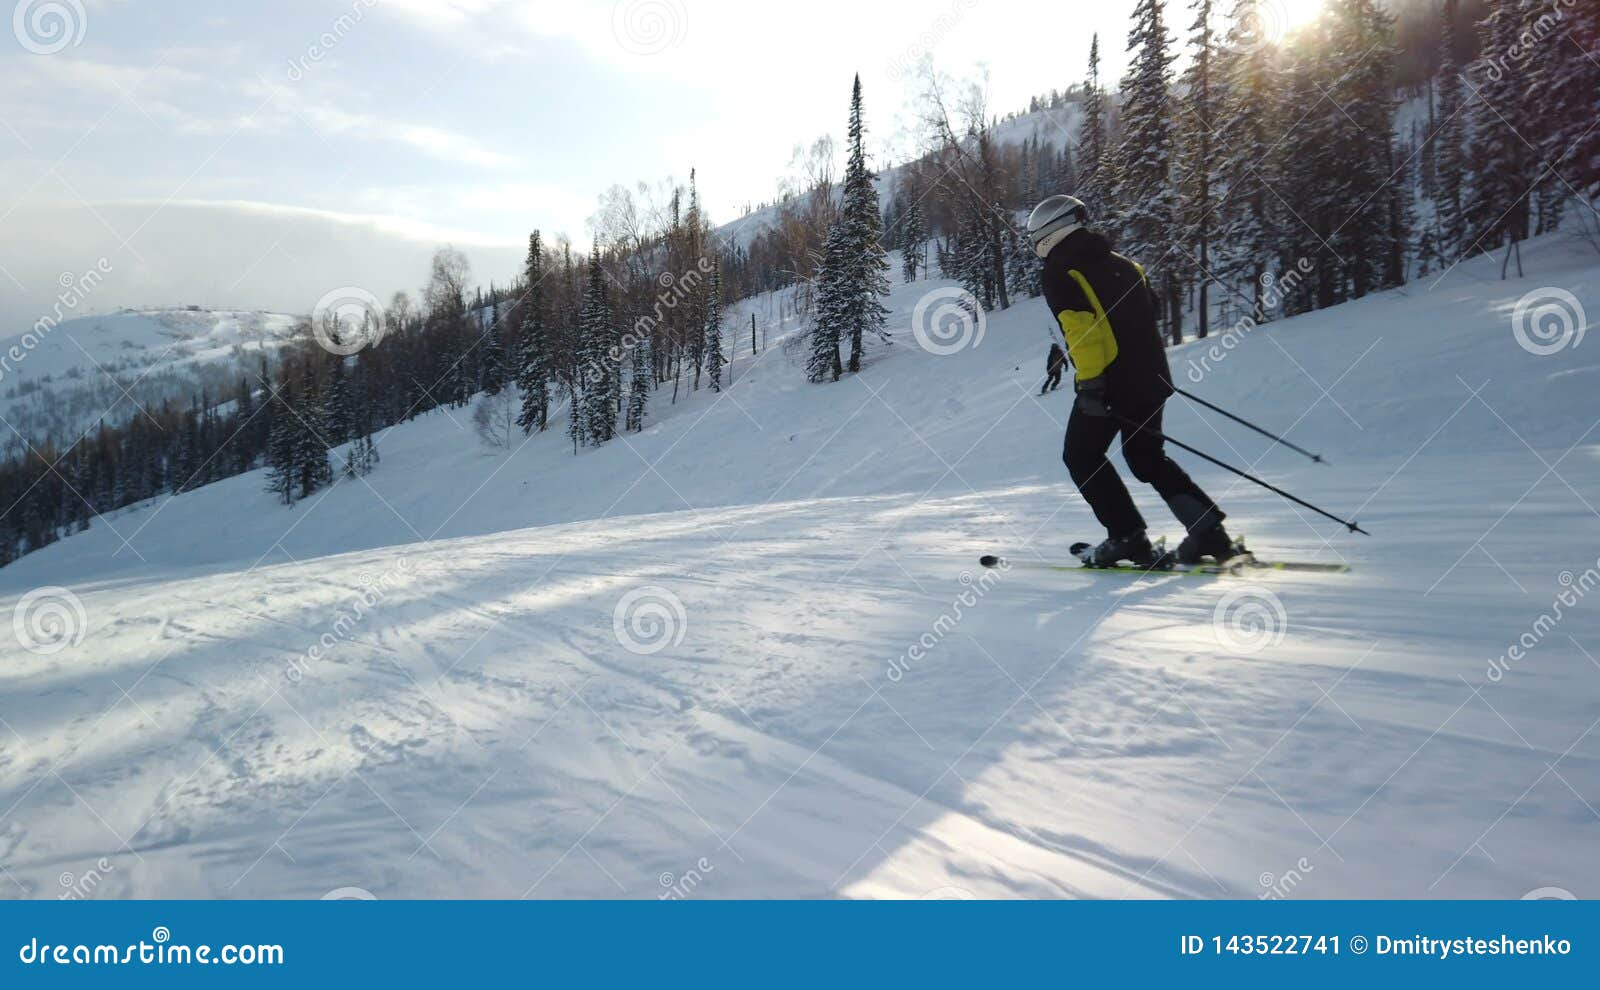skier: (1001, 183, 1390, 601)
